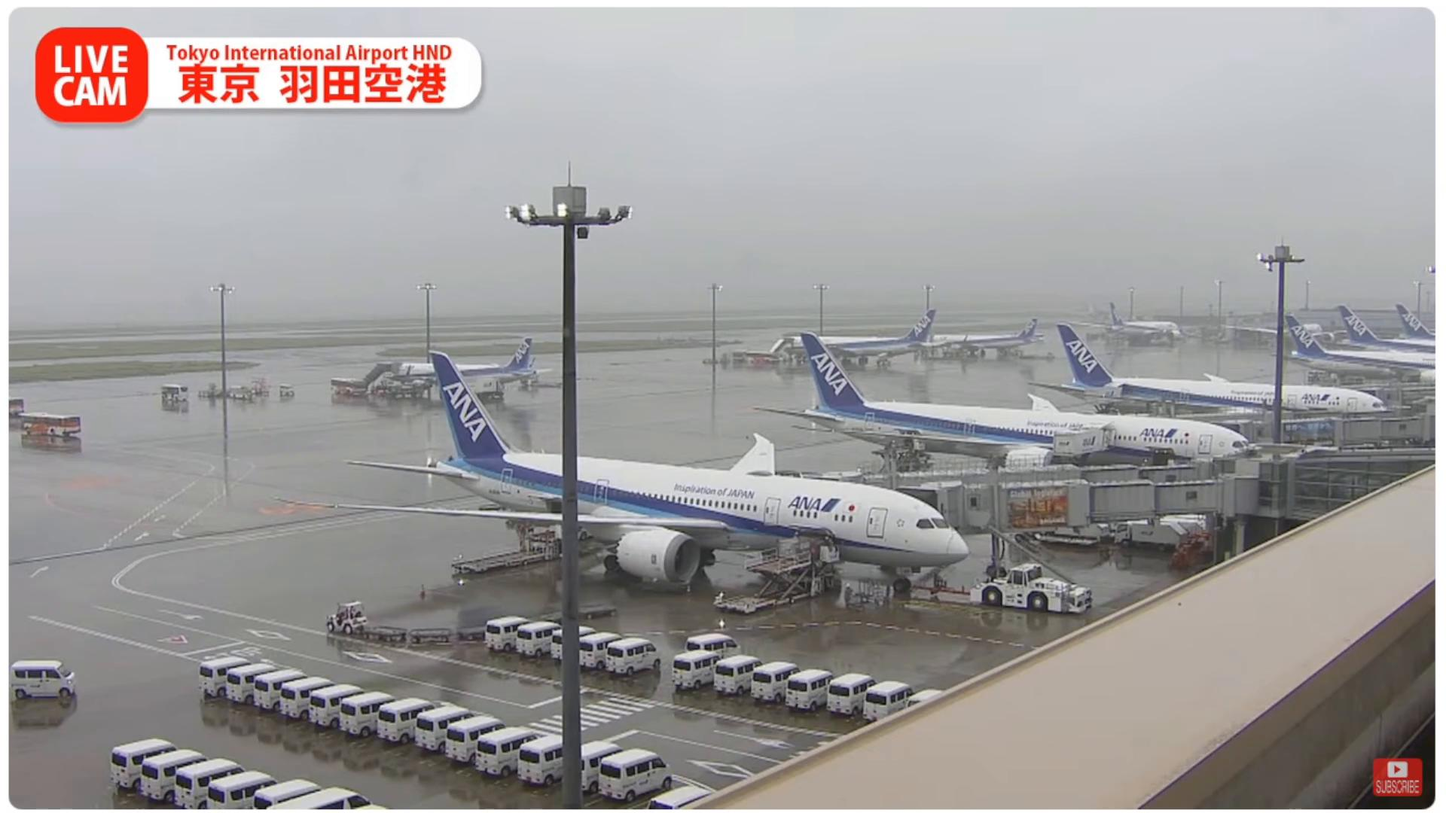APS: (968, 562, 1094, 614)
Aerobridge: (892, 474, 1261, 535), (796, 455, 1210, 487)
Airplane: (270, 351, 970, 592)
Dolly: (365, 604, 617, 644)
JCPL: (712, 550, 838, 615), (447, 522, 563, 573)
Tractor: (326, 601, 370, 634)
Window: (1292, 458, 1433, 516)
